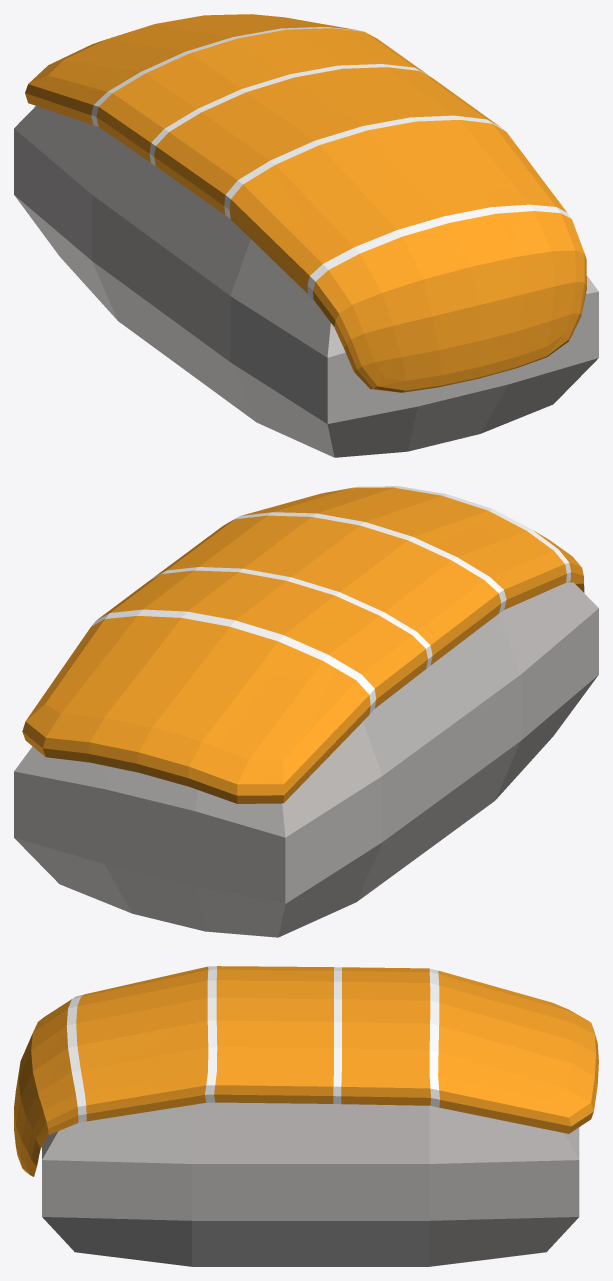
File: Fish_1.fbx
3 views of the same model, one above another, from view 1: azimuth 30°, elevation 25°; view 2: azimuth 150°, elevation 25°; view 3: azimuth 270°, elevation 25° (orthographic). The views are drawn at different scales.
Parts seen in each view (by area): view 1: Fish_1; view 2: Fish_1; view 3: Fish_1.
Boxes of the visible parts, box(x1,y1,x2,y2) form: Fish_1: box(14, 14, 598, 457); Fish_1: box(14, 486, 598, 937); Fish_1: box(14, 966, 598, 1266).
Size of the model in its own units: 12.26 by 10.89 by 24.96.
